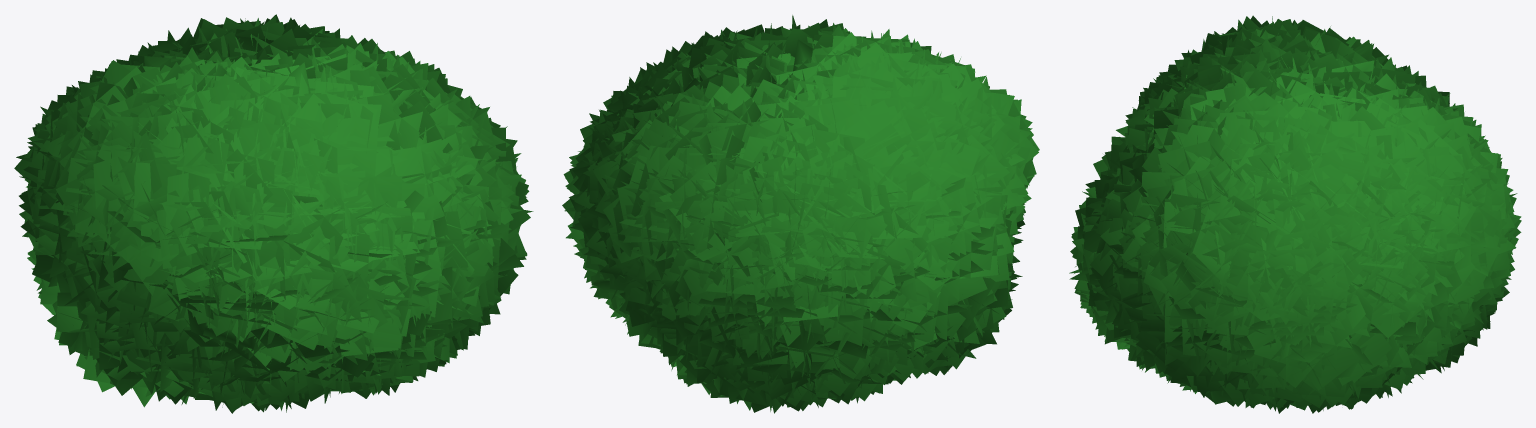
The model's file is bush_001.fbx.
3 renders of one model, left to right at view 1: azimuth 30°, elevation 25°; view 2: azimuth 150°, elevation 25°; view 3: azimuth 270°, elevation 25°, orthographic. The views are drawn at different scales.
Parts seen in each view (by area): view 1: Plane.001; view 2: Plane.001; view 3: Plane.001.
Boxes of the visible parts, x1,y1,x2,y2 form: Plane.001: (14,14,533,413); Plane.001: (562,15,1039,413); Plane.001: (1069,15,1521,413).
Size of the model in its own units: 1695 by 1221 by 1614.
